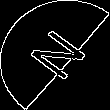N_SE: (20, 24, 90, 86)
